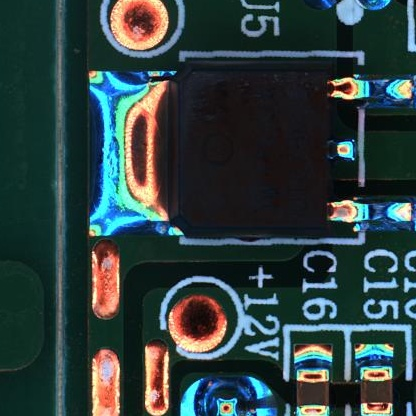spot: (180, 376, 277, 416), (168, 293, 224, 351), (108, 1, 170, 50)
